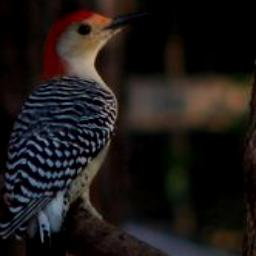Woodpecker: (0, 8, 156, 256)
